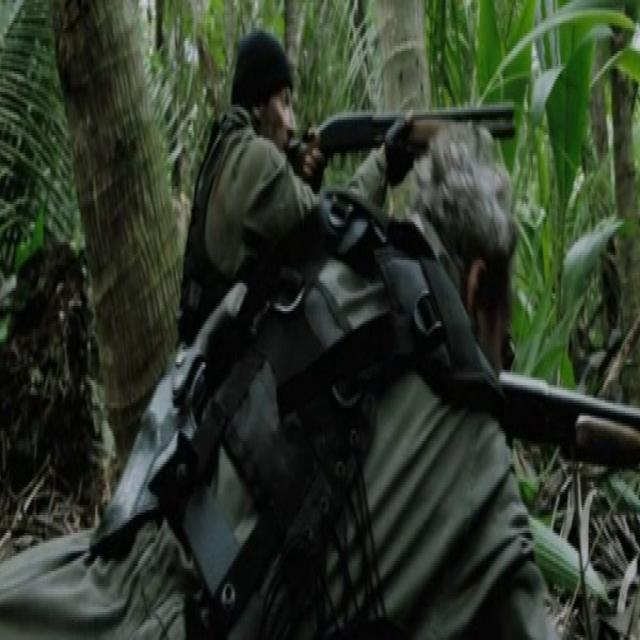rifle: (317, 92, 521, 164)
